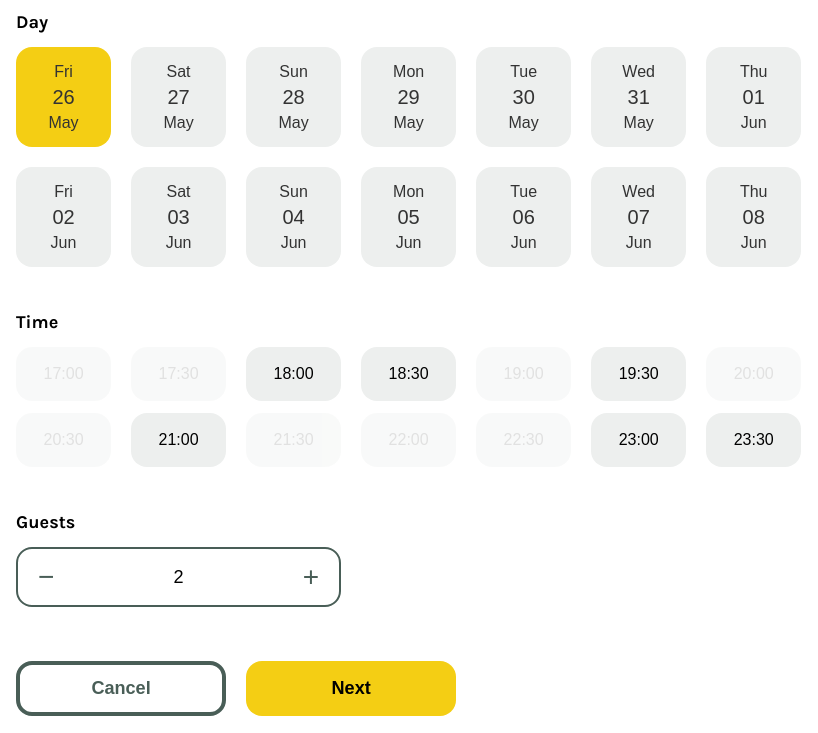
Test: BookingFormStepOne › SHOULD produce time error message WHEN time input value is not valid
Click the button "Next" at [351, 689], box x1=246 y1=662 x2=456 y2=716
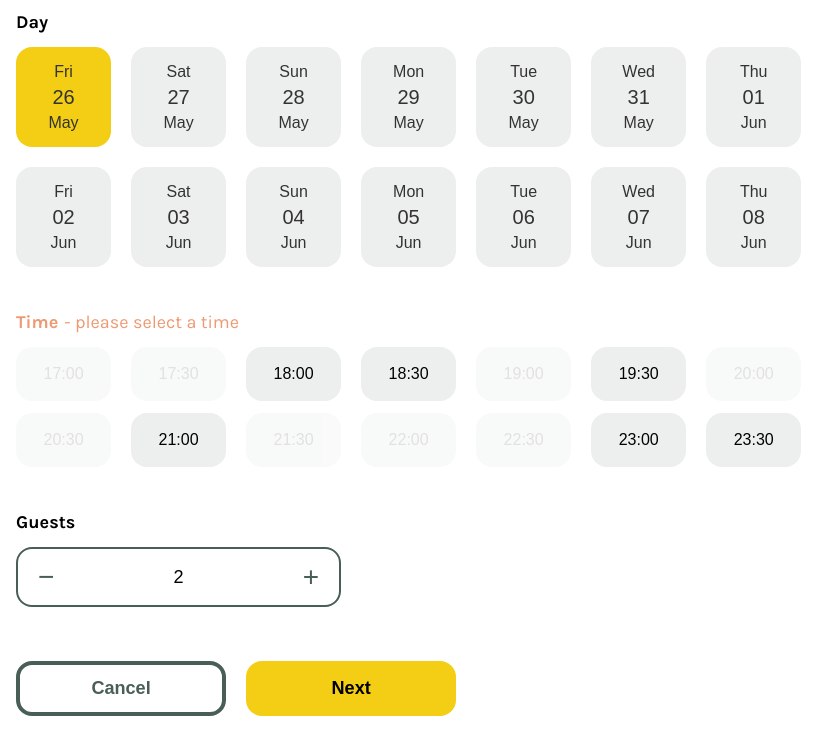
Now the text "please select a time" is shown, box x1=64 y1=311 x2=239 y2=333
